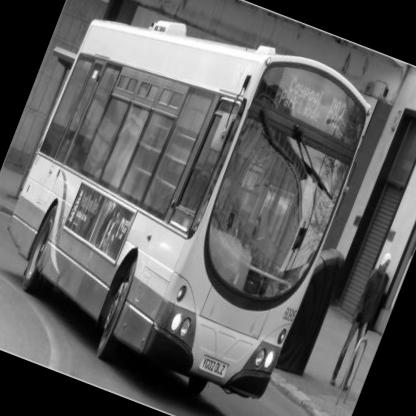bus: (1, 1, 399, 416)
